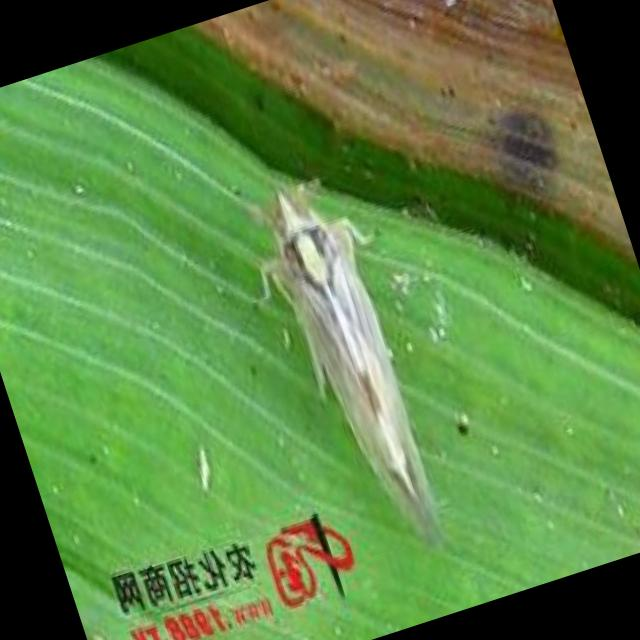brown-planthopper: (240, 168, 470, 566)
